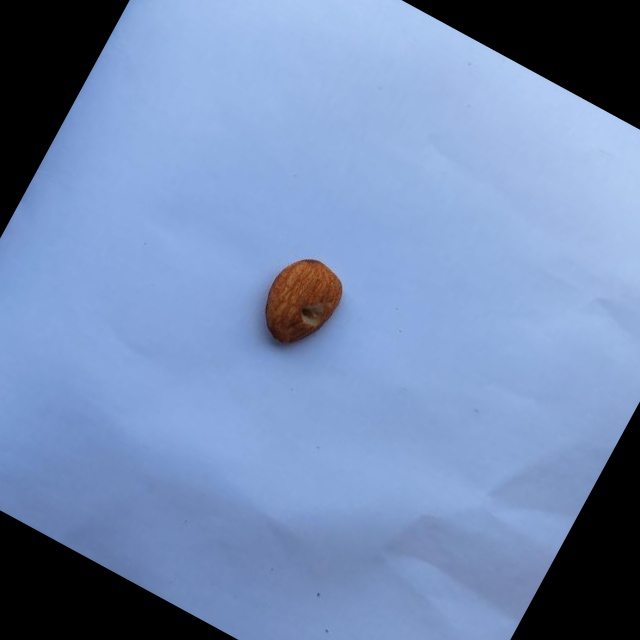grade3: (246, 242, 359, 365)
